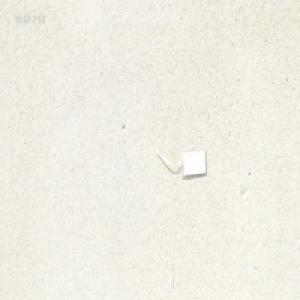LuggageTag: (155, 147, 207, 178)
